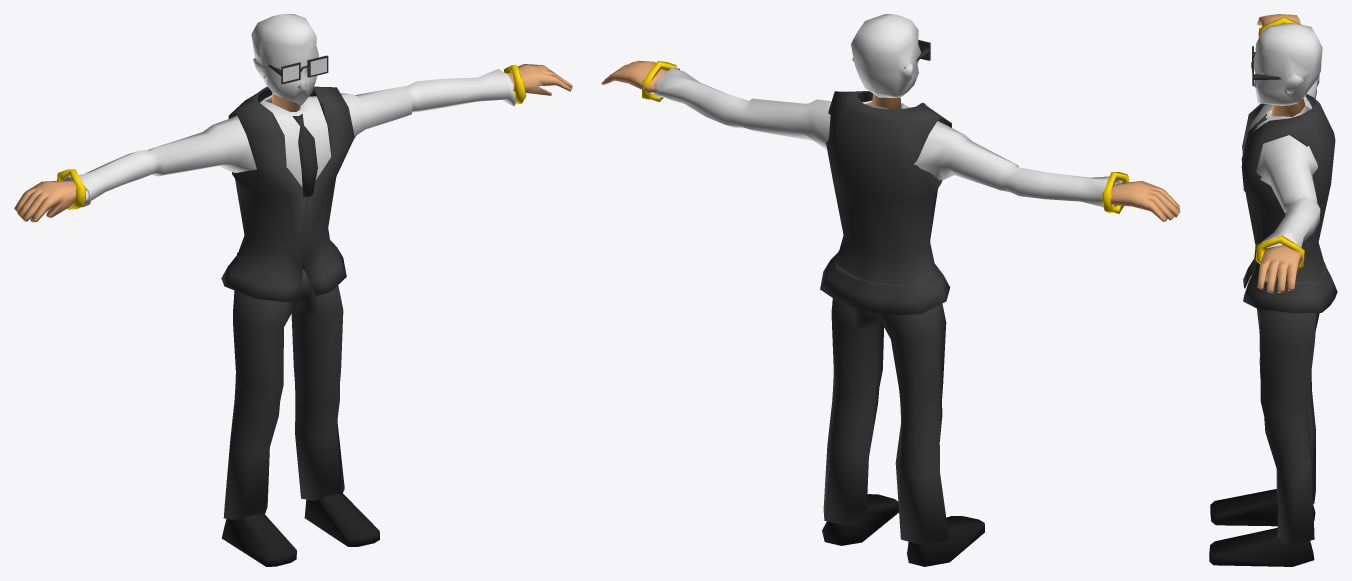
The picture shows the model from 3 angles, left to right: view 1: azimuth 30°, elevation 25°; view 2: azimuth 150°, elevation 25°; view 3: azimuth 270°, elevation 25°; orthographic projection. The views are drawn at different scales.
Visible parts, largest first — view 1: Pants, Suit Jacket, Shirt, Shoes, Mask, Head and Hands, Tie; view 2: Pants, Suit Jacket, Shirt, Mask, Shoes, Head and Hands; view 3: Pants, Suit Jacket, Shirt, Shoes, Mask, Head and Hands, L.H Band, Frame, Tie, R.H Band.
Part boxes in pixels (box(x1,y1,x2,y2)): Pants: box(223, 252, 344, 520); Suit Jacket: box(221, 86, 354, 302); Shirt: box(63, 69, 515, 207); Shoes: box(221, 492, 379, 566); Mask: box(251, 14, 318, 104); Head and Hands: box(14, 64, 572, 222); Tie: box(292, 114, 317, 197); Pants: box(823, 250, 949, 545); Suit Jacket: box(820, 91, 951, 314); Shirt: box(654, 68, 1122, 207); Mask: box(851, 14, 921, 97); Shoes: box(822, 494, 984, 566); Head and Hands: box(601, 60, 1180, 221); Pants: box(1257, 262, 1326, 545); Suit Jacket: box(1242, 94, 1337, 313); Shirt: box(1250, 75, 1320, 248); Shoes: box(1209, 489, 1315, 566); Mask: box(1252, 22, 1322, 105); Head and Hands: box(1257, 14, 1305, 293); L.H Band: box(1255, 235, 1304, 276); Frame: box(1251, 46, 1281, 85); Tie: box(1241, 114, 1266, 192); R.H Band: box(1258, 17, 1300, 37).
Bounding box in the file's own units: 17697 × 15691 × 3561.
